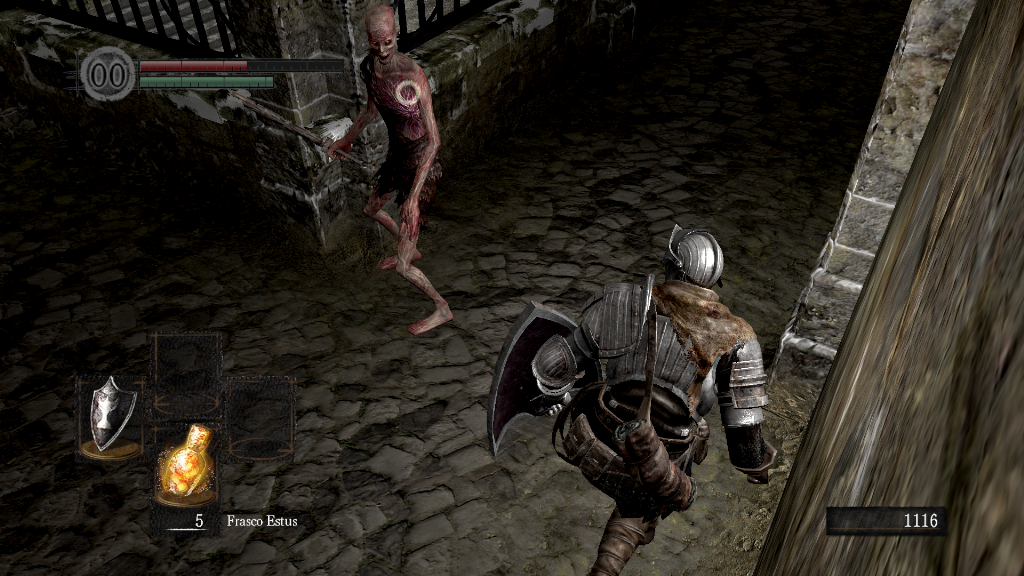health: (138, 58, 343, 71)
hollow: (326, 7, 455, 338)
humanity: (80, 45, 136, 102)
player: (488, 223, 782, 576)
souls: (825, 506, 945, 536)
stamina: (138, 74, 274, 88)
